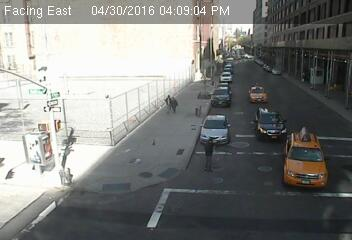neg: (33, 68, 80, 131), (137, 176, 180, 234), (74, 122, 107, 166), (116, 8, 146, 49), (97, 172, 127, 212), (41, 156, 70, 195), (219, 79, 248, 117), (258, 106, 286, 144), (120, 128, 142, 158), (173, 2, 194, 30), (239, 27, 258, 54), (225, 24, 232, 34), (225, 64, 231, 73)
